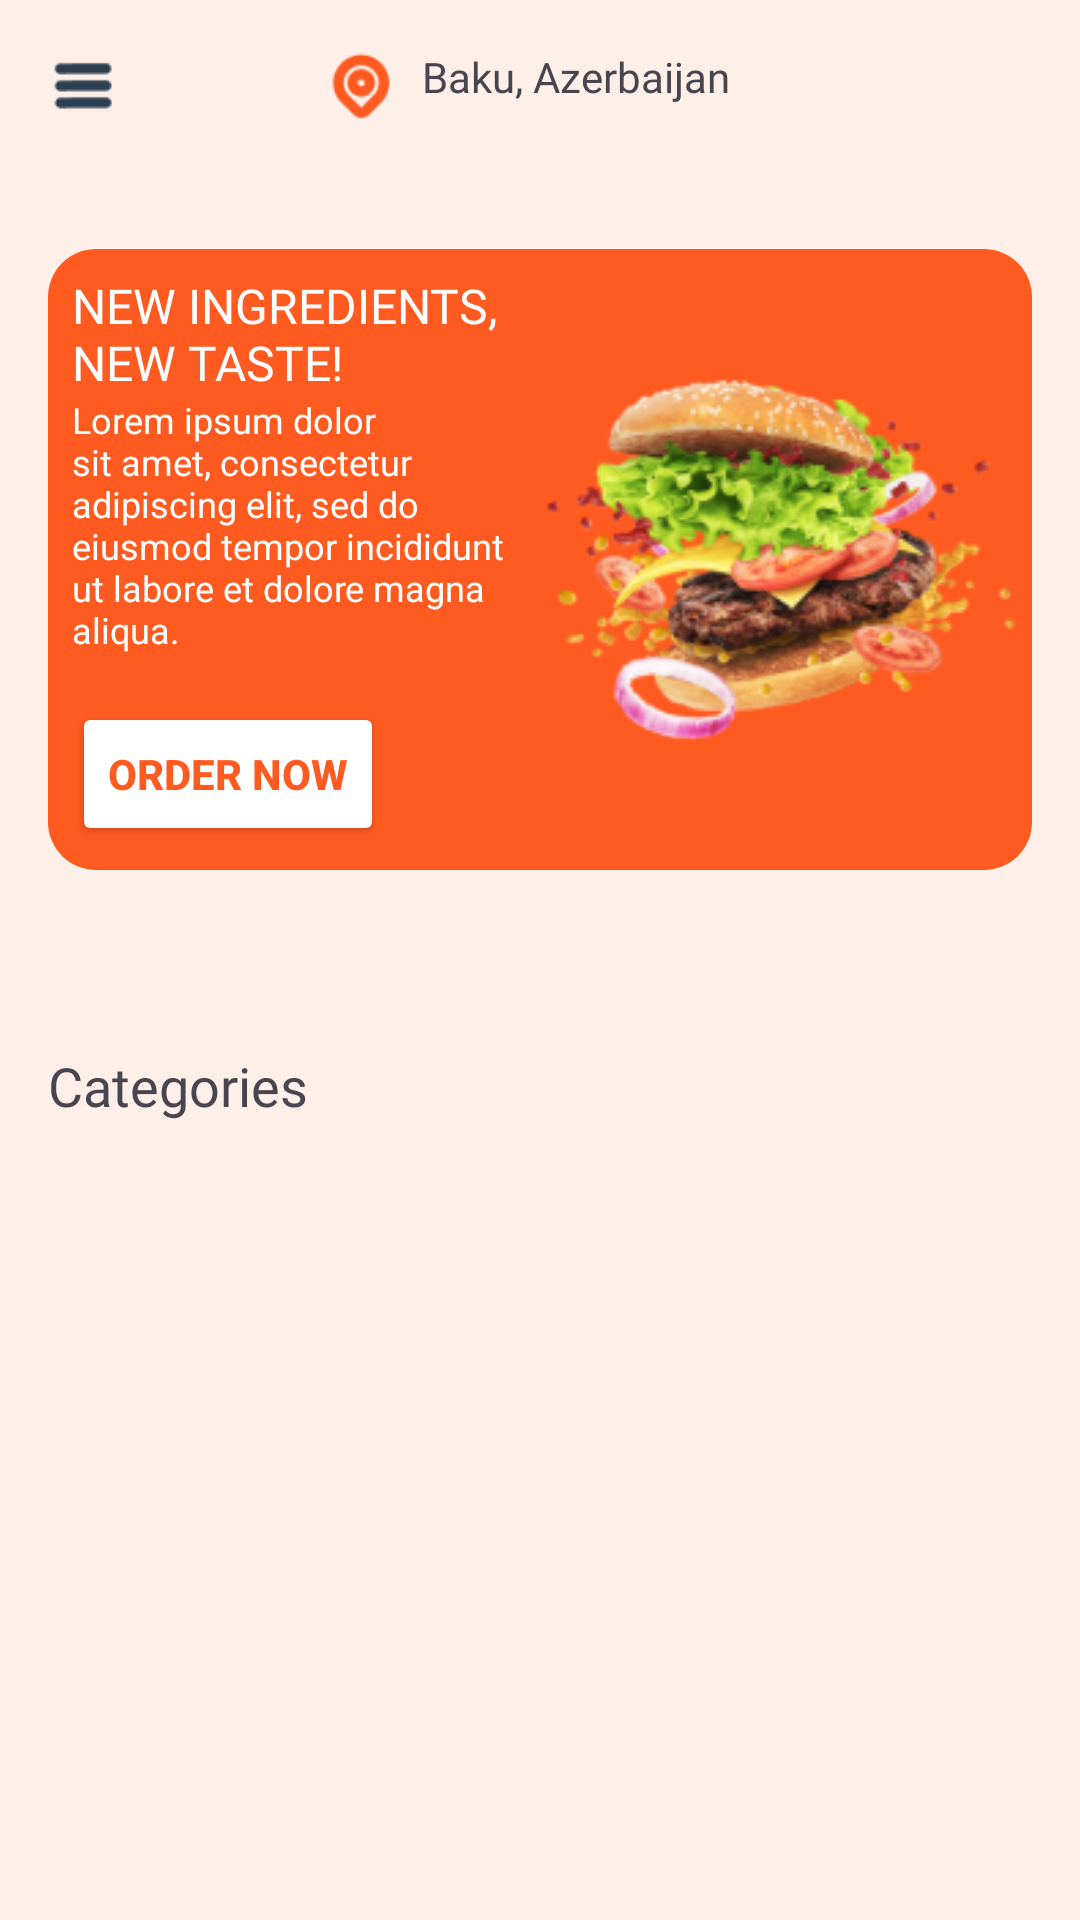

Icons on this 1080 × 1920 Android screen, each with the point to tap as point (x, y):
location: point (361, 86)
menu: point (83, 85)
